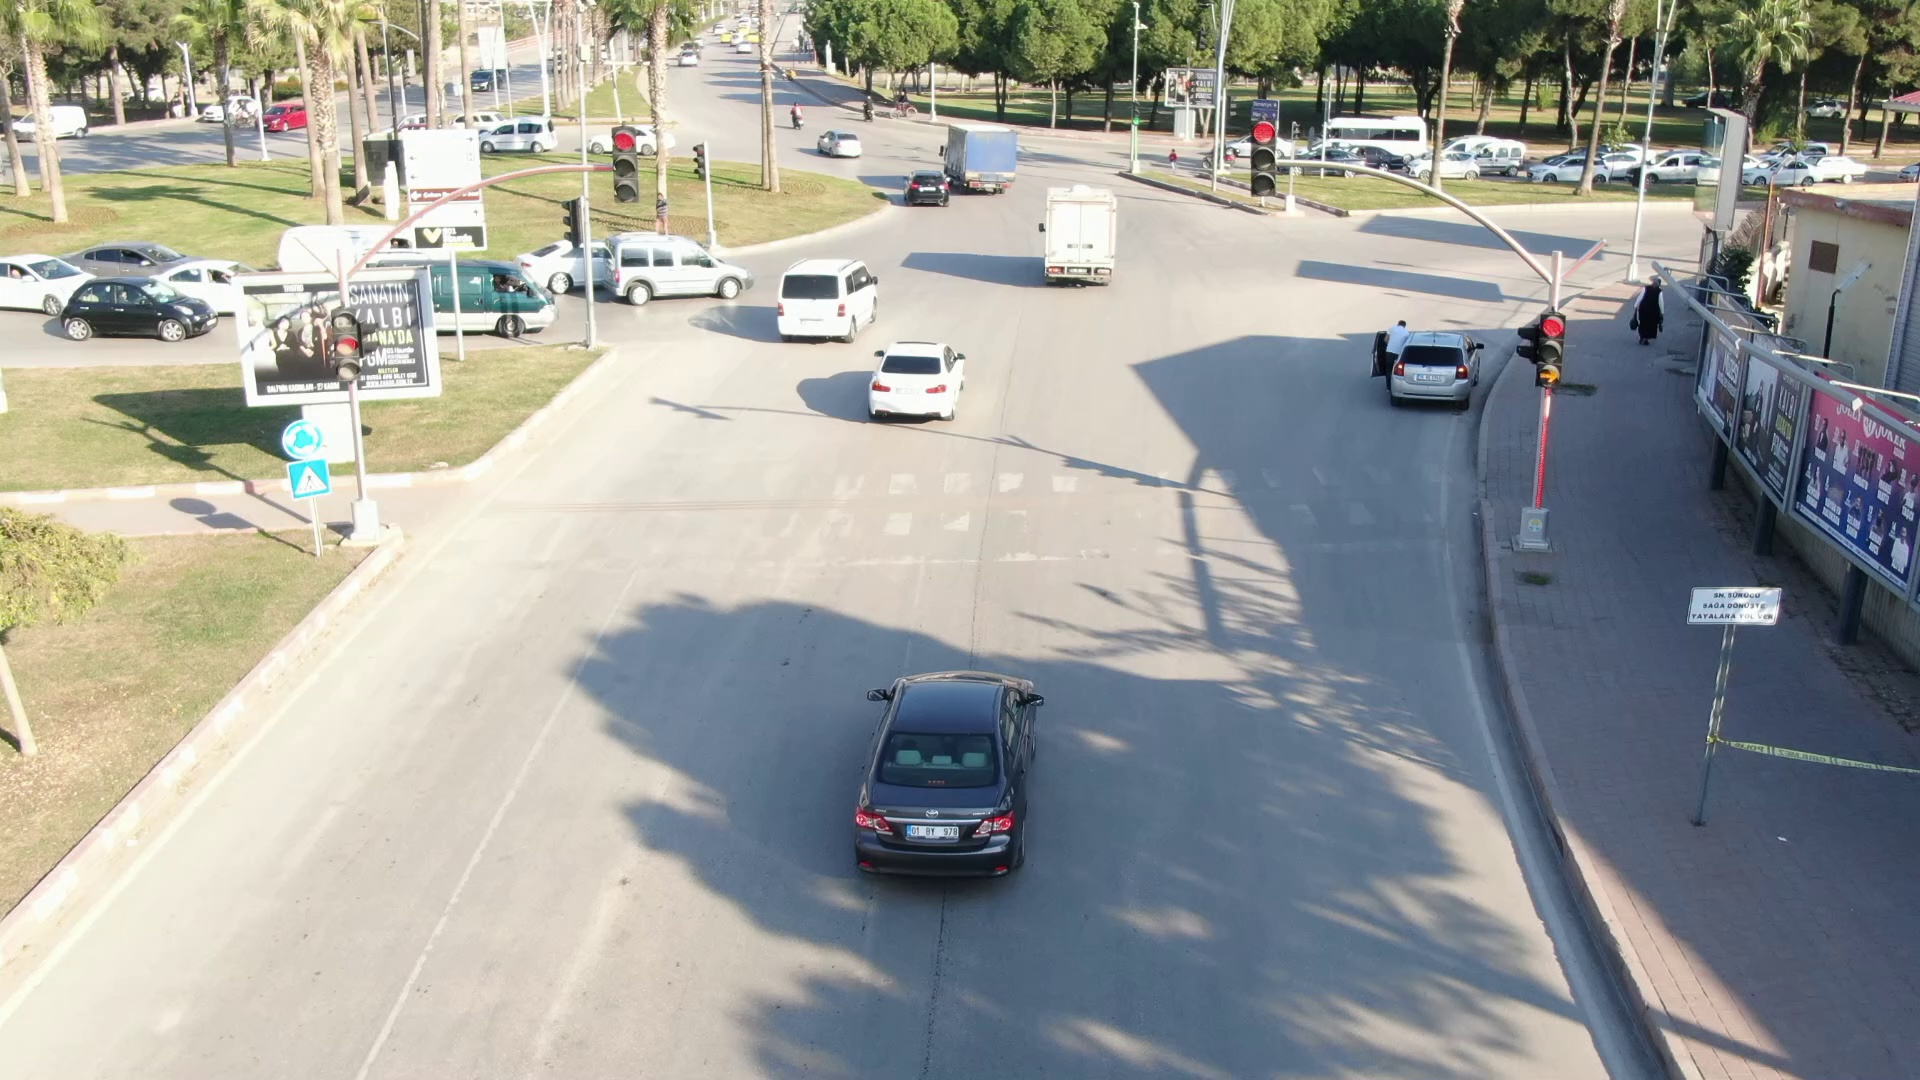car: (831, 635, 1052, 893), (47, 263, 223, 347), (1030, 179, 1137, 296), (766, 243, 883, 348), (860, 326, 977, 428), (603, 227, 756, 305), (1392, 331, 1491, 416), (892, 165, 955, 213)
person: (1623, 271, 1673, 351)
